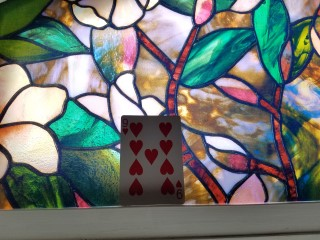NineOfHearts: (120, 115, 187, 206)
